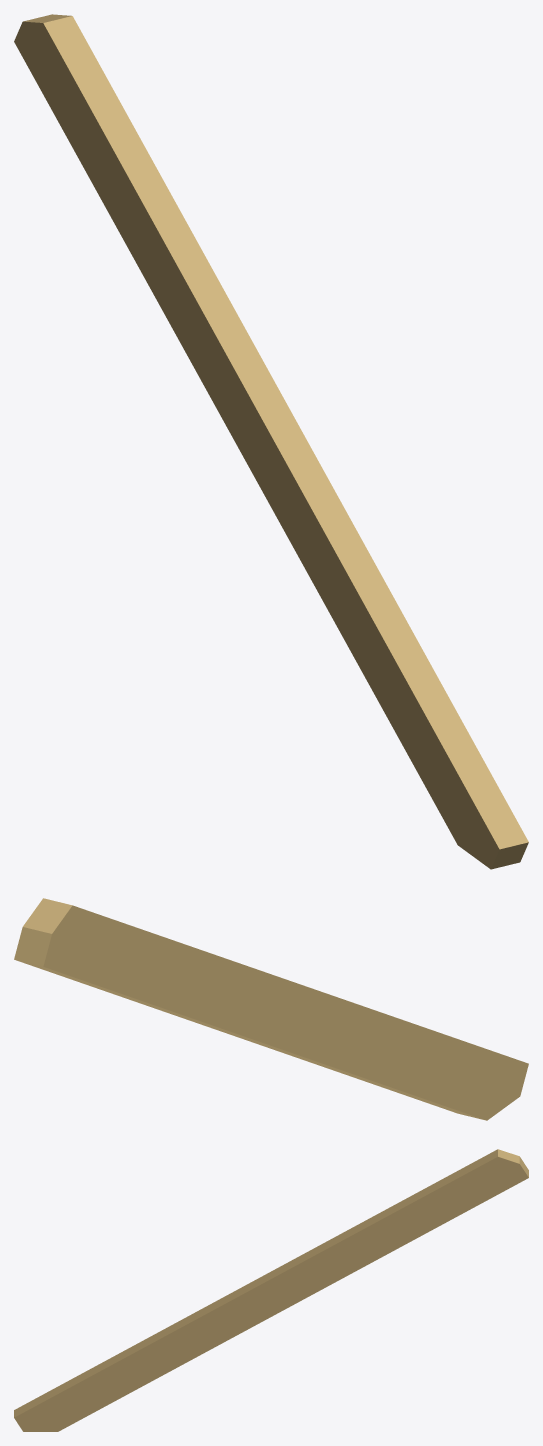
3 views of the same model, one above another, from view 1: azimuth 30°, elevation 25°; view 2: azimuth 150°, elevation 25°; view 3: azimuth 270°, elevation 25° (orthographic). The views are drawn at different scales.
Parts seen in each view (by area): view 1: L1-3-S11-327-WEB03; view 2: L1-3-S11-327-WEB03; view 3: L1-3-S11-327-WEB03.
Boxes of the visible parts, x1,y1,x2,y2 form: L1-3-S11-327-WEB03: (14, 14, 528, 869); L1-3-S11-327-WEB03: (14, 898, 528, 1120); L1-3-S11-327-WEB03: (14, 1149, 528, 1431).
Bounding box in the file's own units: 0.045 × 0.759 × 1.29.
